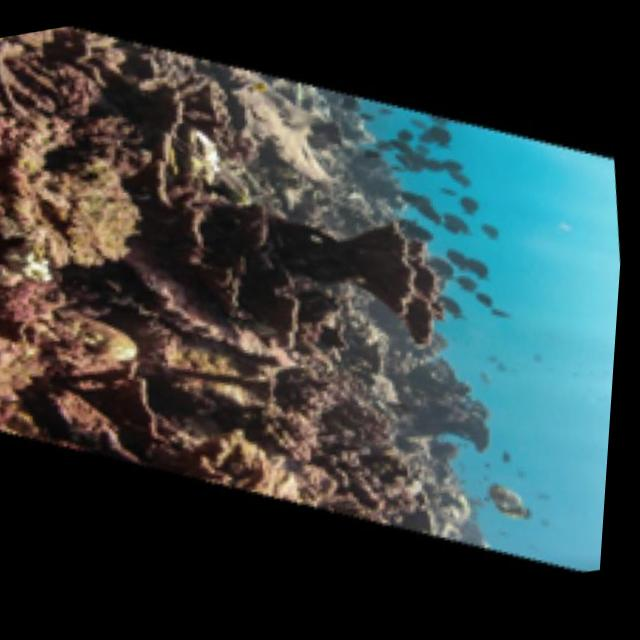Dead Coral: (0, 36, 275, 504), (223, 337, 500, 561), (246, 165, 499, 391)
